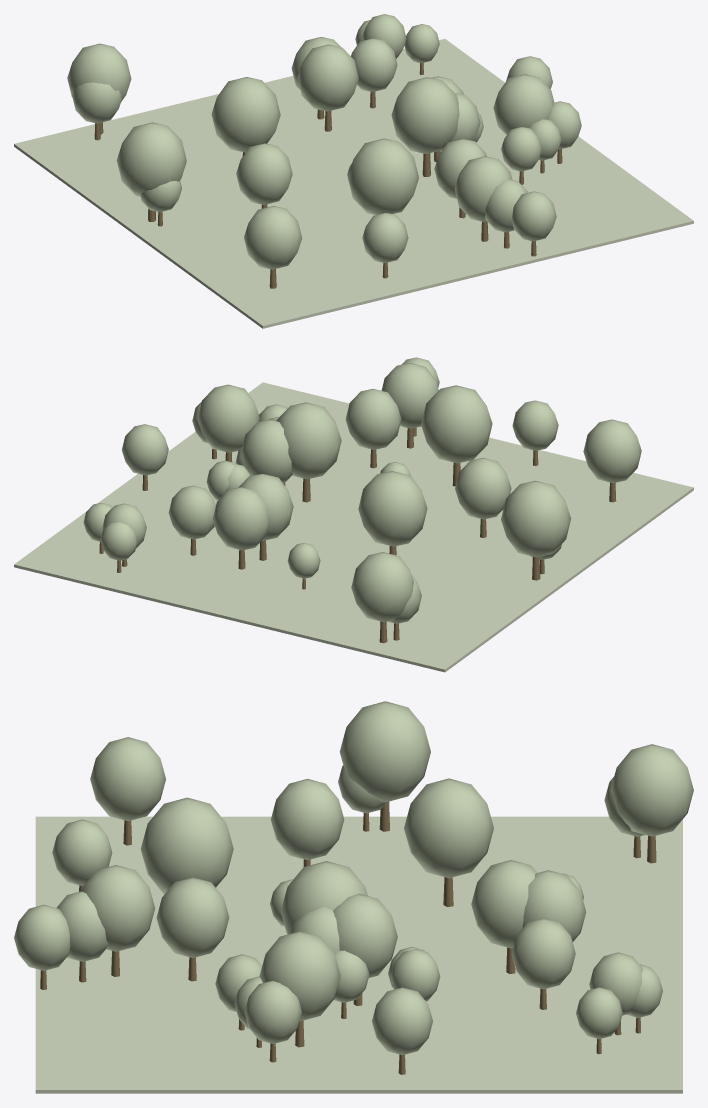
3 views of the same model, one above another, from view 1: azimuth 30°, elevation 25°; view 2: azimuth 150°, elevation 25°; view 3: azimuth 270°, elevation 25° (orthographic). The views are drawn at different scales.
Visible parts, largest first — view 1: terrain, lod-near-23, lod-near-26, lod-near-30, lod-near-8, lod-near-15, lod-near-0, lod-near-9, lod-near-31, lod-near-5, lod-near-18, lod-near-16 (+14 smaller); view 2: terrain, lod-near-23, lod-near-8, lod-near-30, lod-near-26, lod-near-5, lod-near-31, lod-near-0, lod-near-7, lod-near-9, lod-near-3, lod-near-27 (+11 smaller); view 3: terrain, lod-near-8, lod-near-30, lod-near-23, lod-near-5, lod-near-0, lod-near-31, lod-near-9, lod-near-3, lod-near-18, lod-near-15, lod-near-27 (+16 smaller).
Boxes of the visible parts, x1,y1,x2,y2 form: terrain: (14,39,693,328); lod-near-23: (347,138,418,214); lod-near-26: (391,77,459,153); lod-near-30: (211,77,280,152); lod-near-8: (116,122,186,196); lod-near-15: (297,44,358,111); lod-near-0: (244,206,302,269); lod-near-9: (236,143,292,204); lod-near-31: (493,74,554,135); lod-near-5: (67,43,131,101); lod-near-18: (454,156,512,221); lod-near-16: (351,38,397,91); terrain: (14,382,693,672); lod-near-23: (421,385,492,463); lod-near-8: (501,480,571,557); lod-near-30: (358,471,427,546); lod-near-26: (276,402,341,479); lod-near-5: (351,552,413,621); lod-near-31: (197,384,259,452); lod-near-0: (583,419,641,483); lod-near-7: (213,487,268,550); lod-near-9: (455,458,511,519); lod-near-3: (345,389,401,449); lod-near-27: (241,419,292,483); terrain: (35,816,682,1093); lod-near-8: (339,701,430,802); lod-near-30: (404,778,493,878); lod-near-23: (140,797,233,894); lod-near-5: (610,744,693,836); lod-near-0: (90,737,165,821); lod-near-31: (259,931,340,1021); lod-near-9: (271,778,344,860); lod-near-3: (156,877,229,957); lod-near-18: (81,865,155,951); lod-near-15: (471,860,536,948); lod-near-27: (333,893,397,977).
Size of the model in its own units: 32.52 by 7.26 by 33.61.
